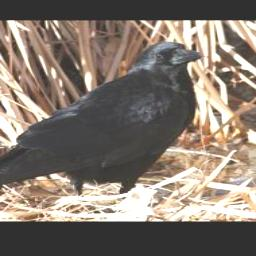Crow: (0, 40, 207, 196)
